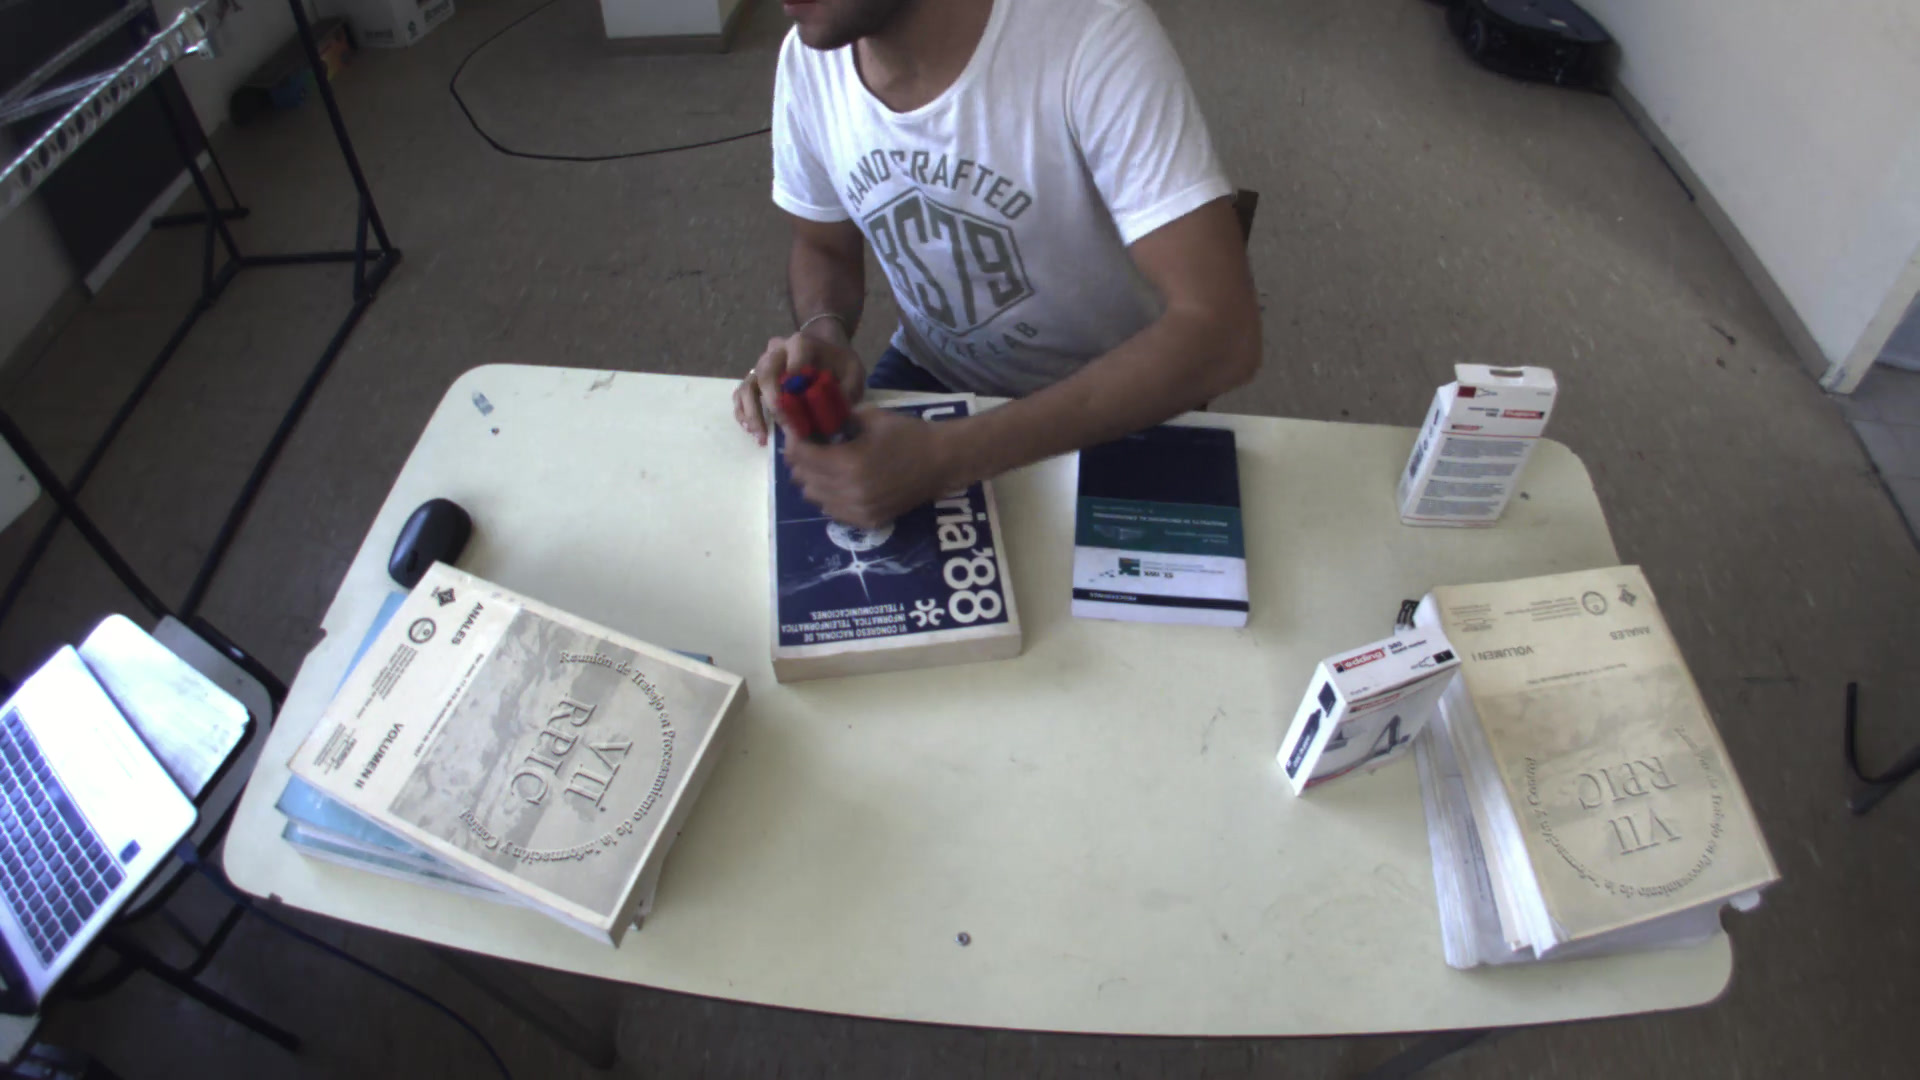hand: (770, 394, 945, 533), (727, 313, 874, 447)
